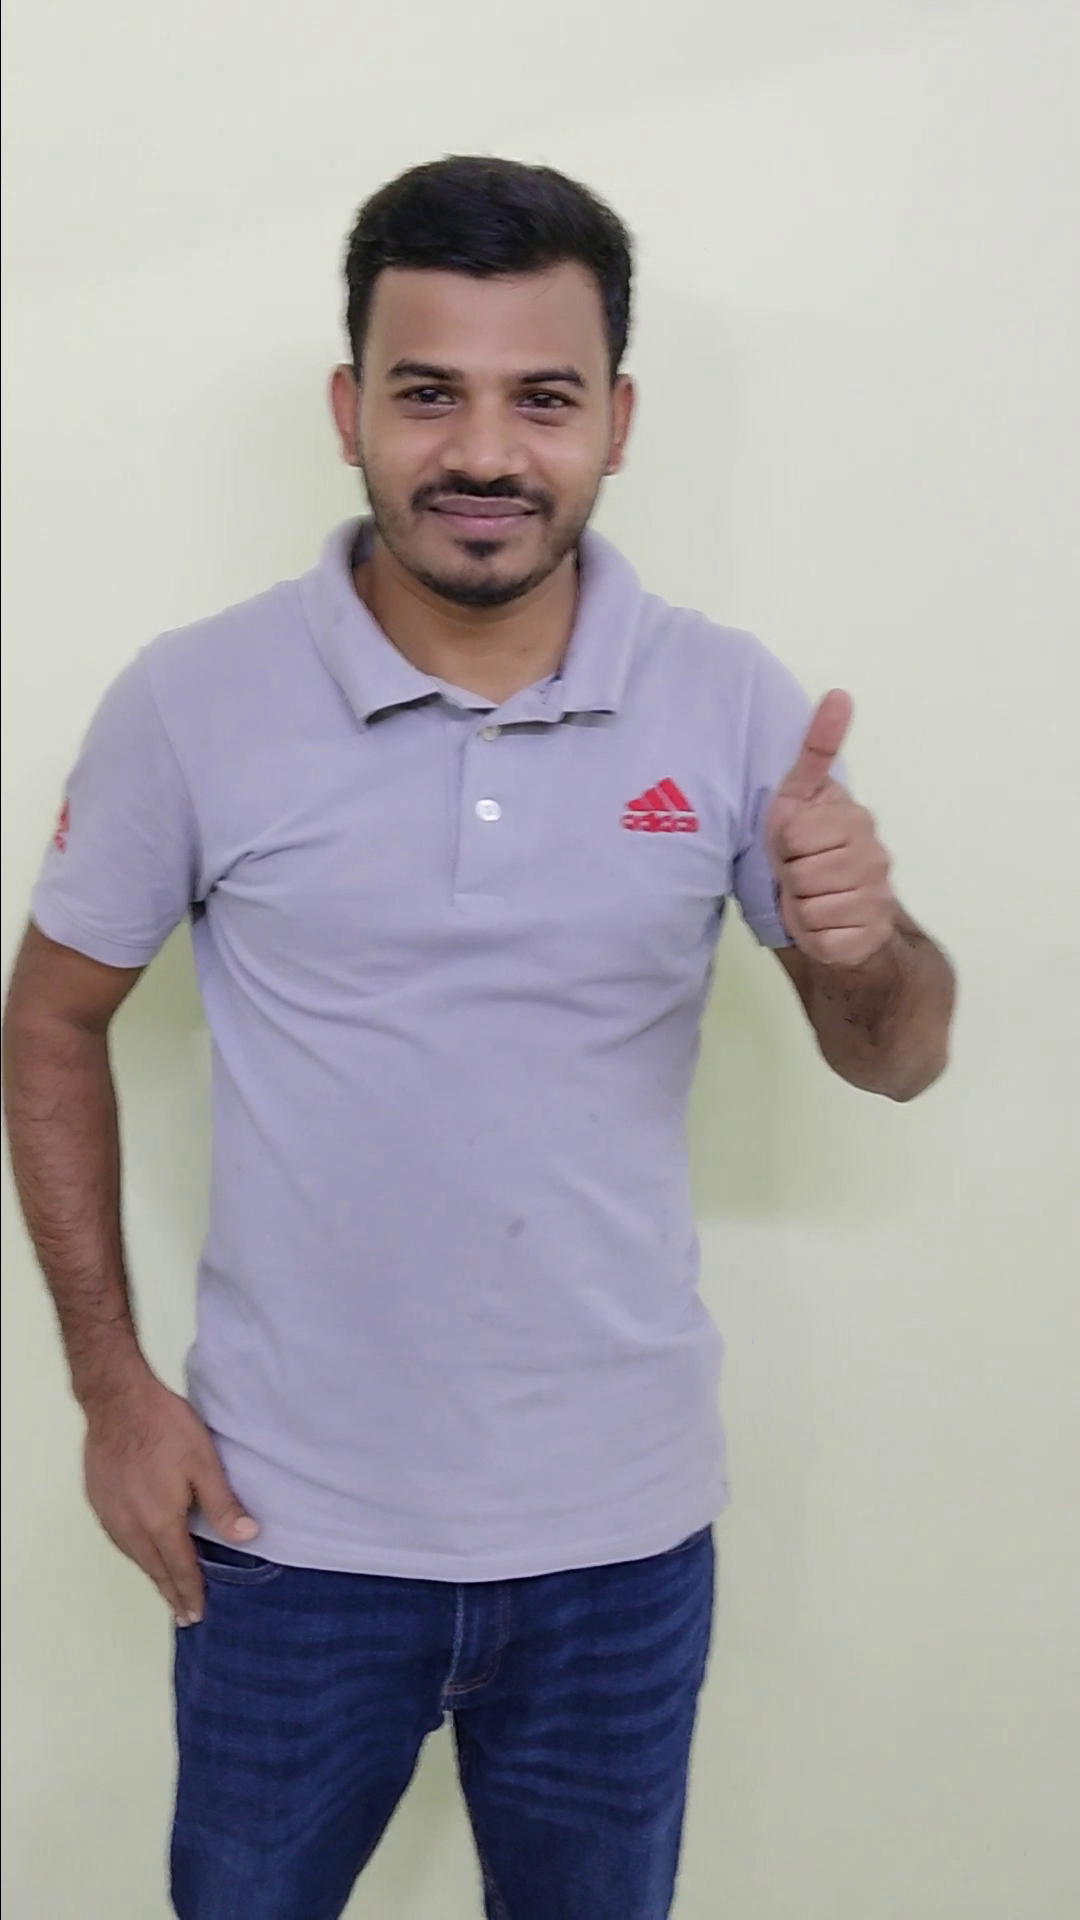Like: (715, 653, 942, 978)
None: (61, 1348, 277, 1639)
